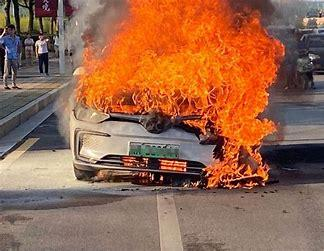smoke: (71, 0, 278, 114), (190, 103, 277, 191), (95, 152, 211, 187)
